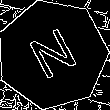N_SE: (22, 23, 83, 86)
